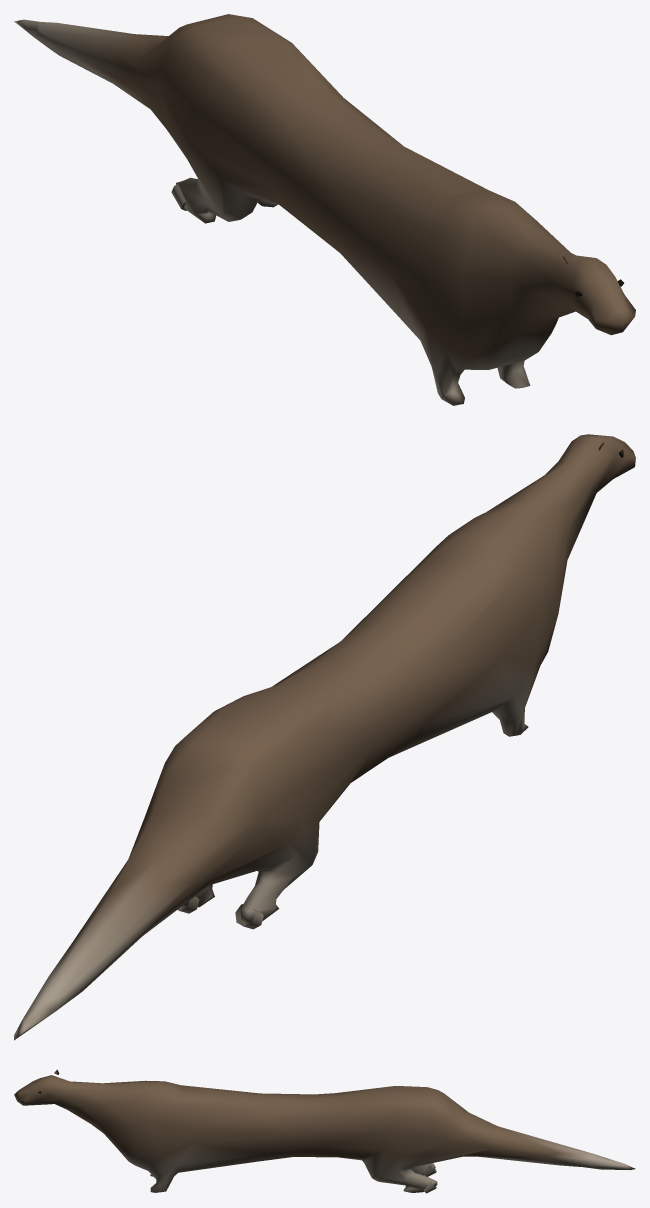
File: otter.glb
3 views of the same model, one above another, from view 1: azimuth 30°, elevation 25°; view 2: azimuth 150°, elevation 25°; view 3: azimuth 270°, elevation 25° (orthographic). The views are drawn at different scales.
Visible parts, largest first — view 1: lack; view 2: lack; view 3: lack.
Part boxes in pixels (x1=…): lack: x1=14, y1=14, x2=635, y2=405; lack: x1=14, y1=434, x2=635, y2=1040; lack: x1=14, y1=1069, x2=635, y2=1193.
Bounding box in the file's own units: 0.1602 × 0.2917 × 1.48.
